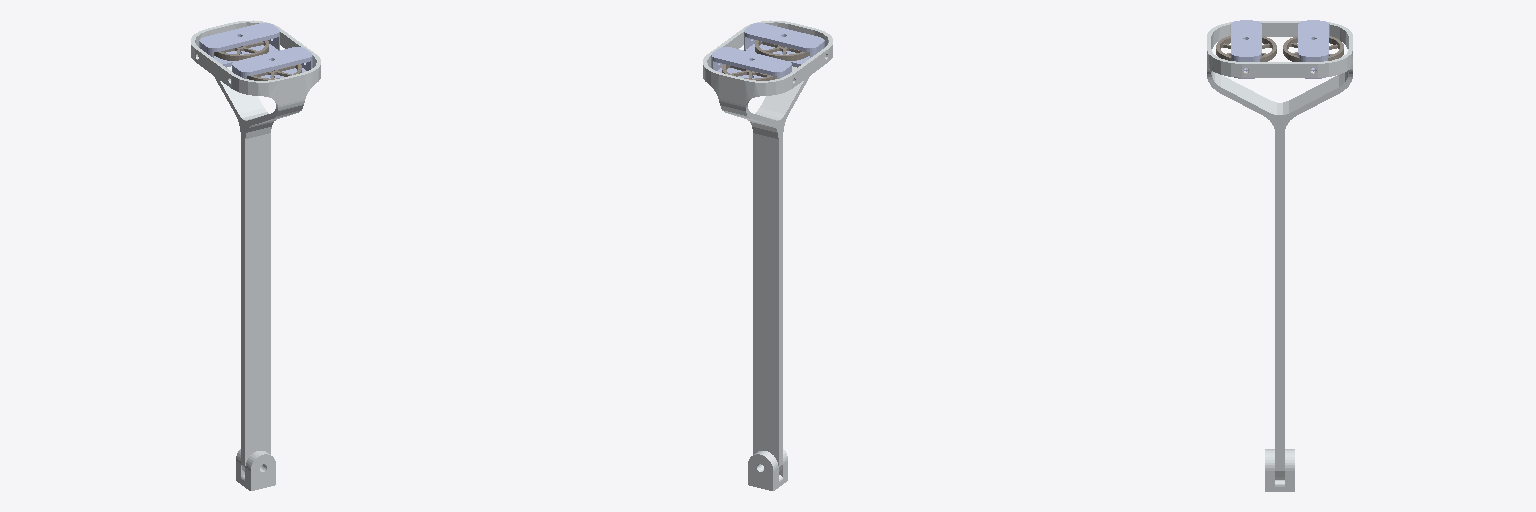
robot.urdf — cmg_mockup:
<?xml version="1.0" encoding="utf-8"?>
<!-- This URDF was automatically created by SolidWorks to URDF Exporter! Originally created by [author] ([email redacted]) 
     Commit Version: 1.6.0-1-g15f4949  Build Version: 1.6.7594.29634
     For more information, please see http://wiki.ros.org/sw_urdf_exporter -->
<robot
  name="cmg_mockup">
  <link
    name="base_link">
    <inertial>
      <origin
        xyz="2.04621790177729E-19 8.32716201197779E-21 -0.00453036363805971"
        rpy="0 0 0" />
      <mass
        value="0.0179726942298267" />
      <inertia
        ixx="1.65261736708293E-06"
        ixy="-5.05624879079861E-23"
        ixz="-1.1130256547726E-22"
        iyy="1.48252036342011E-06"
        iyz="-1.07343474858583E-22"
        izz="1.3425053205757E-06" />
    </inertial>
    <visual>
      <origin
        xyz="0 0 0"
        rpy="0 0 0" />
      <geometry>
        <mesh
          filename="package://cmg_mockup/meshes/base_link.STL" />
      </geometry>
      <material
        name="">
        <color
          rgba="0.898039215686275 0.917647058823529 0.929411764705882 1" />
      </material>
    </visual>
    <collision>
      <origin
        xyz="0 0 0"
        rpy="0 0 0" />
      <geometry>
        <mesh
          filename="package://cmg_mockup/meshes/base_link.STL" />
      </geometry>
    </collision>
  </link>
  <link
    name="frame">
    <inertial>
      <origin
        xyz="1.11958587767099E-17 8.61613300303699E-10 0.183985949426508"
        rpy="0 0 0" />
      <mass
        value="0.135843181460511" />
      <inertia
        ixx="0.00135654985342586"
        ixy="6.75768354822669E-11"
        ixz="7.31996954916908E-20"
        iyy="0.00132064999849433"
        iyz="-8.03639604769252E-12"
        izz="7.25202012105515E-05" />
    </inertial>
    <visual>
      <origin
        xyz="0 0 0"
        rpy="0 0 0" />
      <geometry>
        <mesh
          filename="package://cmg_mockup/meshes/frame.STL" />
      </geometry>
      <material
        name="">
        <color
          rgba="0.898039215686275 0.917647058823529 0.929411764705882 1" />
      </material>
    </visual>
    <collision>
      <origin
        xyz="0 0 0"
        rpy="0 0 0" />
      <geometry>
        <mesh
          filename="package://cmg_mockup/meshes/frame.STL" />
      </geometry>
    </collision>
  </link>
  <joint
    name="joint0"
    type="revolute">
    <origin
      xyz="0 0 0"
      rpy="0 0 0" />
    <parent
      link="base_link" />
    <child
      link="frame" />
    <axis
      xyz="0 1 0" />
    <limit
      lower="0"
      upper="0"
      effort="0"
      velocity="0" />
  </joint>
  <link
    name="gimbal1">
    <inertial>
      <origin
        xyz="-6.15027795000011E-18 0 5.55111512312578E-17"
        rpy="0 0 0" />
      <mass
        value="0.00730600065730224" />
      <inertia
        ixx="5.14476869835539E-07"
        ixy="5.72219288718141E-22"
        ixz="1.31049057483626E-22"
        iyy="2.49838326078774E-06"
        iyz="2.30858111807237E-23"
        izz="2.44215073098293E-06" />
    </inertial>
    <visual>
      <origin
        xyz="0 0 0"
        rpy="0 0 0" />
      <geometry>
        <mesh
          filename="package://cmg_mockup/meshes/gimbal1.STL" />
      </geometry>
      <material
        name="">
        <color
          rgba="0.792156862745098 0.819607843137255 0.933333333333333 1" />
      </material>
    </visual>
    <collision>
      <origin
        xyz="0 0 0"
        rpy="0 0 0" />
      <geometry>
        <mesh
          filename="package://cmg_mockup/meshes/gimbal1.STL" />
      </geometry>
    </collision>
  </link>
  <joint
    name="joint1"
    type="revolute">
    <origin
      xyz="0 -0.022 0.3"
      rpy="0 0 0" />
    <parent
      link="frame" />
    <child
      link="gimbal1" />
    <axis
      xyz="-1 0 0" />
    <limit
      lower="0"
      upper="0"
      effort="0"
      velocity="0" />
  </joint>
  <link
    name="flywheel1">
    <inertial>
      <origin
        xyz="-5.50575632364296E-18 -3.46944695195361E-18 -0.000257572459907096"
        rpy="0 0 0" />
      <mass
        value="0.0115837700311142" />
      <inertia
        ixx="1.69787427560436E-06"
        ixy="5.71998624754687E-22"
        ixz="-1.21376645313962E-23"
        iyy="1.69787427560436E-06"
        iyz="1.69168888618569E-23"
        izz="3.36639551515697E-06" />
    </inertial>
    <visual>
      <origin
        xyz="0 0 0"
        rpy="0 0 0" />
      <geometry>
        <mesh
          filename="package://cmg_mockup/meshes/flywheel1.STL" />
      </geometry>
      <material
        name="">
        <color
          rgba="0.647058823529412 0.619607843137255 0.588235294117647 1" />
      </material>
    </visual>
    <collision>
      <origin
        xyz="0 0 0"
        rpy="0 0 0" />
      <geometry>
        <mesh
          filename="package://cmg_mockup/meshes/flywheel1.STL" />
      </geometry>
    </collision>
  </link>
  <joint
    name="joint2"
    type="continuous">
    <origin
      xyz="0 0 0"
      rpy="0 0 0" />
    <parent
      link="gimbal1" />
    <child
      link="flywheel1" />
    <axis
      xyz="0 0 -1" />
  </joint>
  <link
    name="gimbal2">
    <inertial>
      <origin
        xyz="1.66565579259142E-18 0 -5.55111512312578E-17"
        rpy="0 0 0" />
      <mass
        value="0.00730600065730224" />
      <inertia
        ixx="5.14476869835539E-07"
        ixy="-5.72539034555591E-23"
        ixz="1.34393827721763E-22"
        iyy="2.49838326078774E-06"
        iyz="8.26100188657236E-24"
        izz="2.44215073098293E-06" />
    </inertial>
    <visual>
      <origin
        xyz="0 0 0"
        rpy="0 0 0" />
      <geometry>
        <mesh
          filename="package://cmg_mockup/meshes/gimbal2.STL" />
      </geometry>
      <material
        name="">
        <color
          rgba="0.792156862745098 0.819607843137255 0.933333333333333 1" />
      </material>
    </visual>
    <collision>
      <origin
        xyz="0 0 0"
        rpy="0 0 0" />
      <geometry>
        <mesh
          filename="package://cmg_mockup/meshes/gimbal2.STL" />
      </geometry>
    </collision>
  </link>
  <joint
    name="joint3"
    type="revolute">
    <origin
      xyz="0 0.022 0.3"
      rpy="0 0 0" />
    <parent
      link="frame" />
    <child
      link="gimbal2" />
    <axis
      xyz="-1 0 0" />
    <limit
      lower="0"
      upper="0"
      effort="0"
      velocity="0" />
  </joint>
  <link
    name="flywheel2">
    <inertial>
      <origin
        xyz="-8.42997684618261E-18 6.93889390390723E-18 -0.000257572459907152"
        rpy="0 0 0" />
      <mass
        value="0.0115837700311142" />
      <inertia
        ixx="1.69787427560436E-06"
        ixy="8.37358811496551E-22"
        ixz="-3.18292437291809E-22"
        iyy="1.69787427560436E-06"
        iyz="1.34525792568568E-23"
        izz="3.36639551515697E-06" />
    </inertial>
    <visual>
      <origin
        xyz="0 0 0"
        rpy="0 0 0" />
      <geometry>
        <mesh
          filename="package://cmg_mockup/meshes/flywheel2.STL" />
      </geometry>
      <material
        name="">
        <color
          rgba="0.647058823529412 0.619607843137255 0.588235294117647 1" />
      </material>
    </visual>
    <collision>
      <origin
        xyz="0 0 0"
        rpy="0 0 0" />
      <geometry>
        <mesh
          filename="package://cmg_mockup/meshes/flywheel2.STL" />
      </geometry>
    </collision>
  </link>
  <joint
    name="joint4"
    type="continuous">
    <origin
      xyz="0 0 0"
      rpy="0 0 0" />
    <parent
      link="gimbal2" />
    <child
      link="flywheel2" />
    <axis
      xyz="0 0 -1" />
  </joint>
</robot>

--- Render facts (derived) ---
The picture shows the robot from 3 angles, left to right: view 1: azimuth 30°, elevation 25°; view 2: azimuth 150°, elevation 25°; view 3: azimuth 270°, elevation 25°; orthographic projection.
Robot: cmg_mockup — 6 links, 5 joints (3 revolute, 2 continuous); root link base_link; default pose: every joint at zero.
Visible links, largest first — view 1: frame, gimbal2, gimbal1, base_link, flywheel2; view 2: frame, gimbal1, gimbal2, base_link, flywheel1; view 3: frame, gimbal1, gimbal2, base_link, flywheel2, flywheel1.
Boxes of the visible links, x1,y1,x2,y2 form: frame: (191, 20, 320, 471); gimbal2: (199, 23, 279, 67); gimbal1: (232, 47, 312, 78); base_link: (236, 449, 275, 490); flywheel2: (214, 40, 268, 60); frame: (703, 20, 832, 471); gimbal1: (744, 23, 824, 67); gimbal2: (711, 47, 791, 78); base_link: (748, 449, 787, 490); flywheel1: (755, 40, 809, 60); frame: (1207, 21, 1352, 479); gimbal1: (1231, 20, 1261, 78); gimbal2: (1298, 20, 1328, 78); base_link: (1265, 449, 1294, 491); flywheel2: (1283, 36, 1343, 61); flywheel1: (1216, 36, 1276, 61).
Bounding box of the posed robot: 0.066 × 0.096 × 0.323 m (x, y, z).
6 mesh visuals loaded from 6 distinct referenced files (6 binary STL).